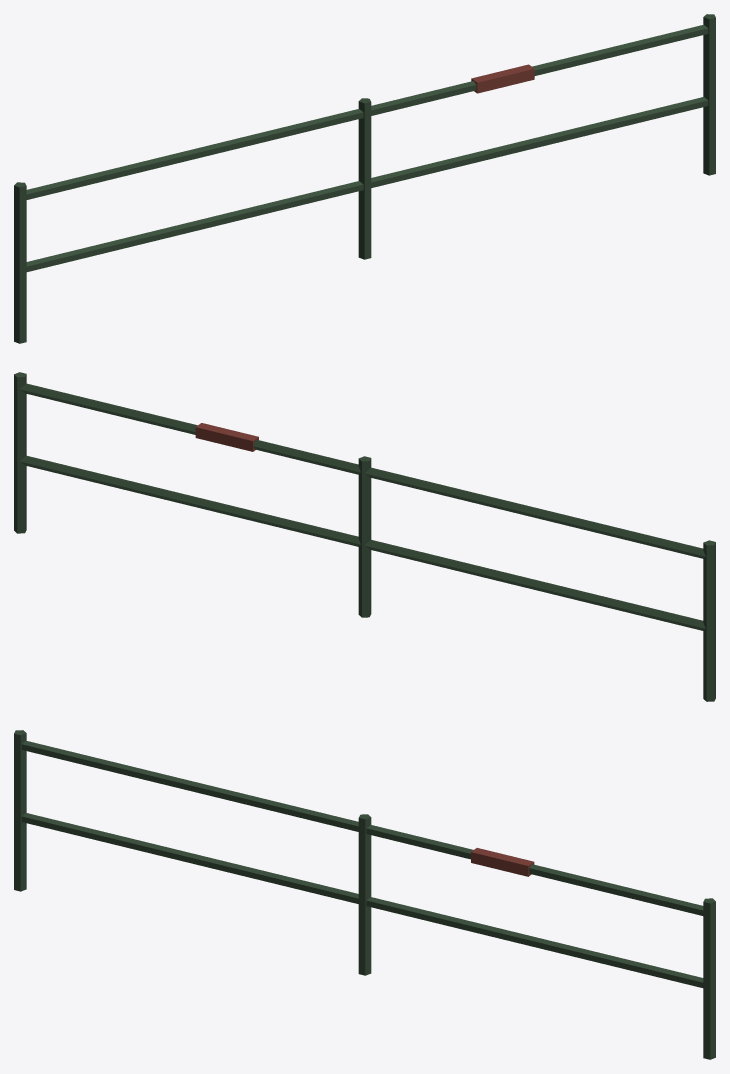
File: gard.glb
3 renders of one model, top to bottom at view 1: azimuth 30°, elevation 25°; view 2: azimuth 150°, elevation 25°; view 3: azimuth 330°, elevation 25°, orthographic.
Visible parts, largest first — view 1: Gard; view 2: Gard; view 3: Gard.
Part boxes in pixels (<box>): Gard: <box>14,14,715,343</box>; Gard: <box>14,372,715,701</box>; Gard: <box>14,730,715,1059</box>.
Size of the model in its own units: 3.05 by 0.65 by 0.0475.
